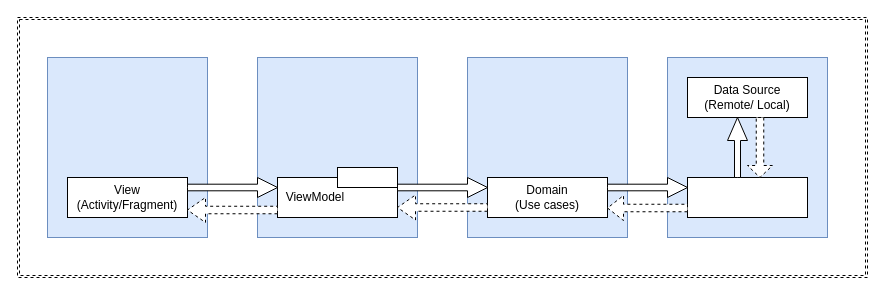
This 885x295 diagram has some shape labels left out. Each missing label, with the centre of its shape:
"LiveData" belongs at (x=367, y=177).
"Repository" belongs at (x=747, y=197).
